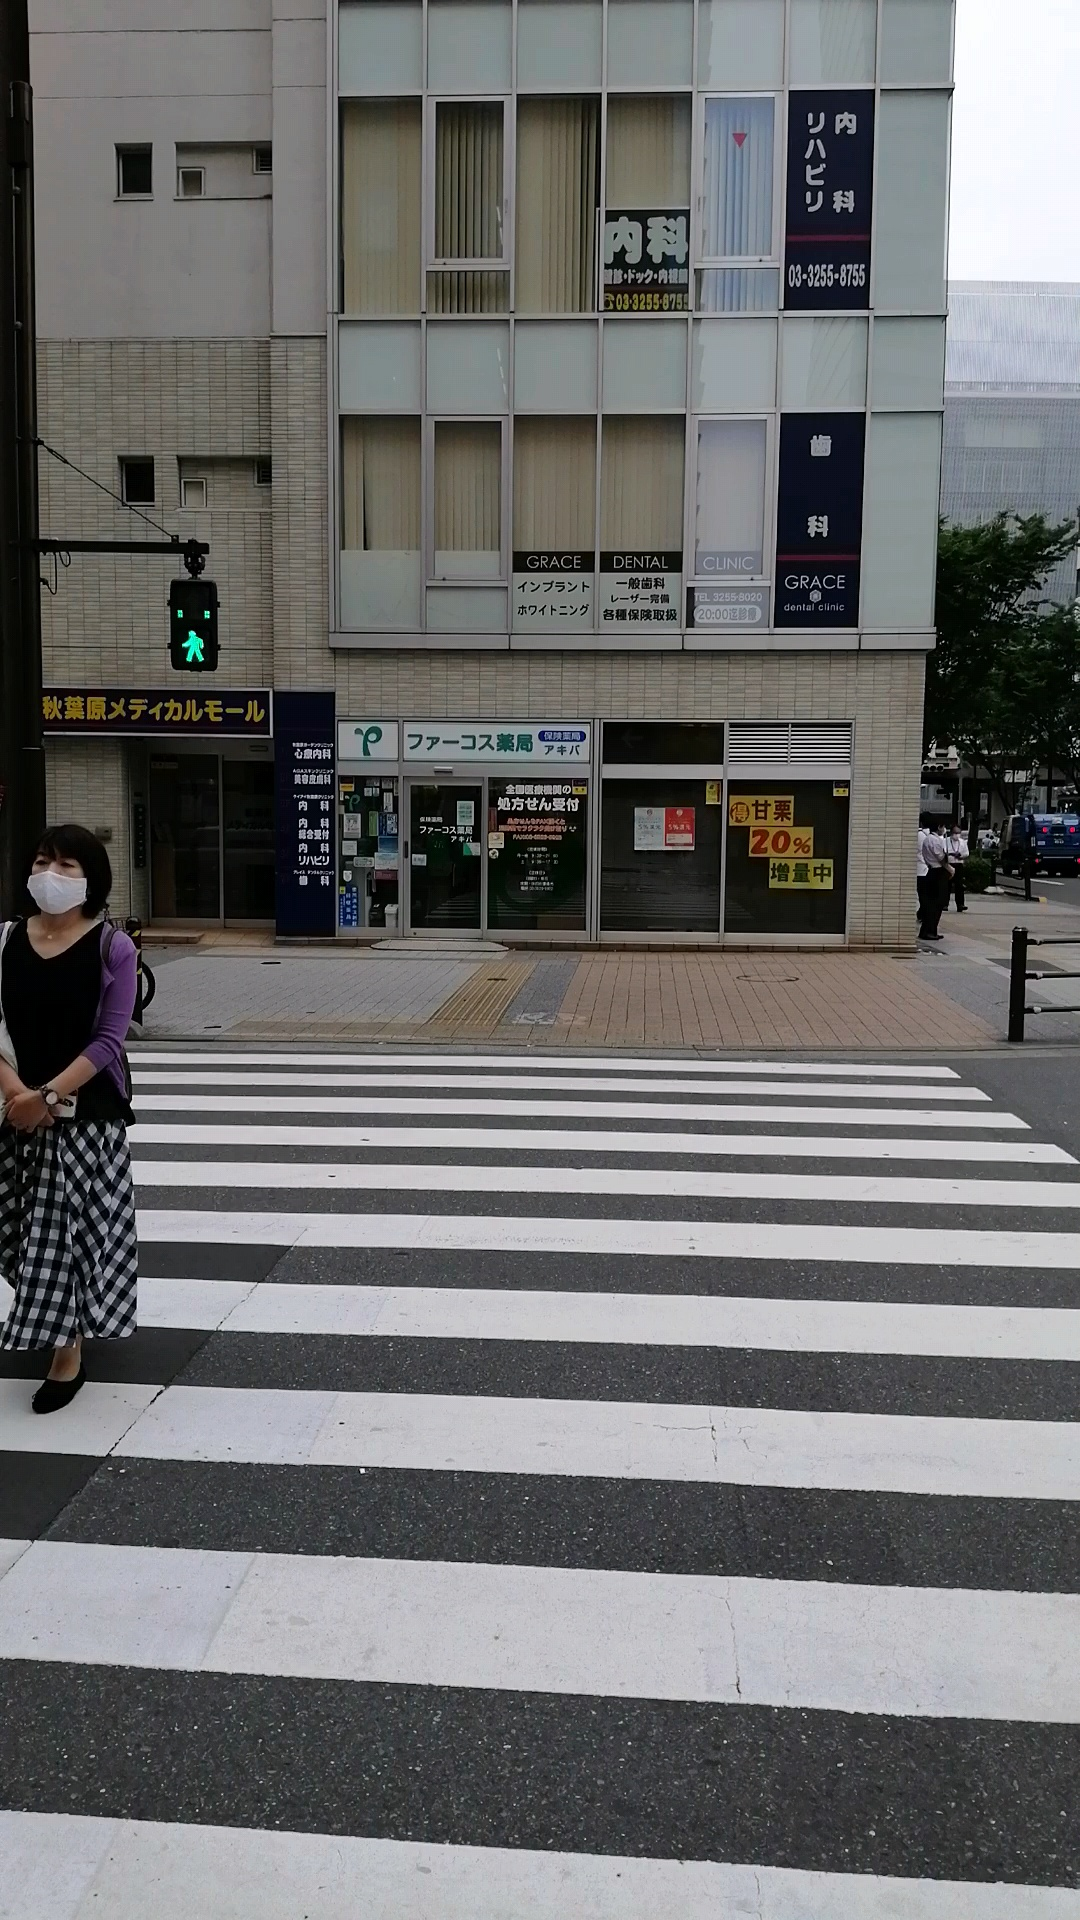green: (169, 579, 222, 671)
